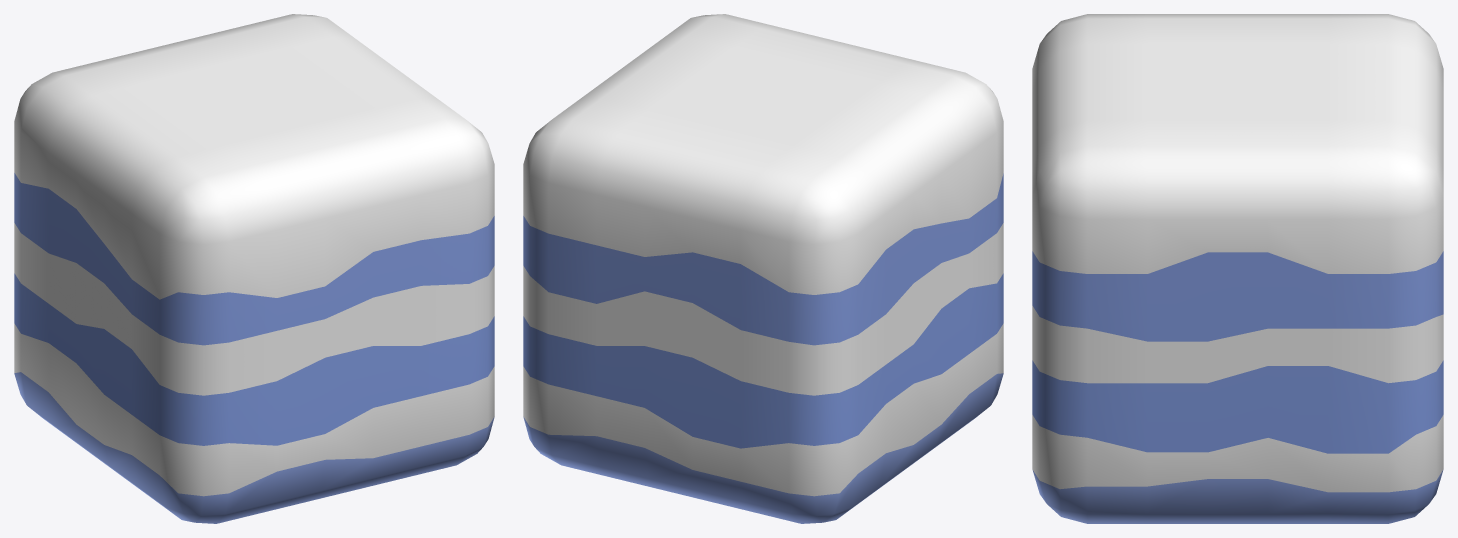
Rendered from Stone017.fbx.
3 renders of one model, left to right at view 1: azimuth 30°, elevation 25°; view 2: azimuth 150°, elevation 25°; view 3: azimuth 270°, elevation 25°, orthographic. The views are drawn at different scales.
Visible parts, largest first — view 1: Stone017; view 2: Stone017; view 3: Stone017.
Part boxes in pixels (x1,y1,x2,y2): Stone017: [14, 14, 494, 523]; Stone017: [523, 14, 1003, 523]; Stone017: [1032, 14, 1443, 523].
Bounding box in the file's own units: 156 × 156 × 156.
